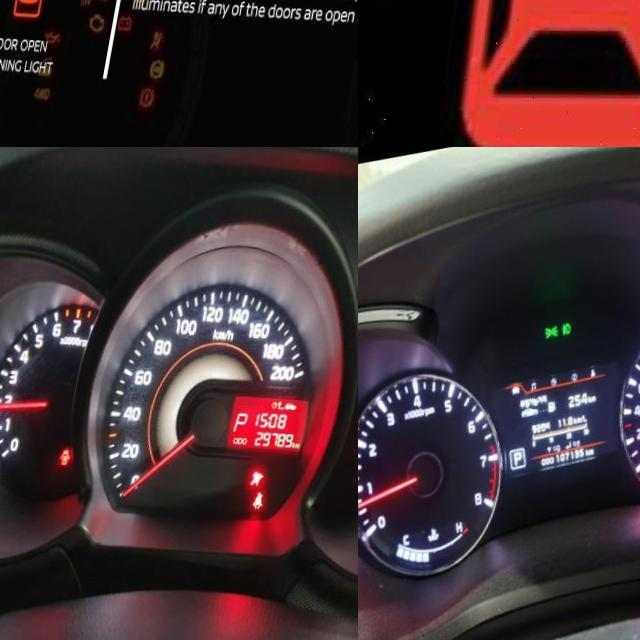Doors: (72, 446, 84, 463)
FrontFogLight: (566, 317, 580, 332)
SideLamp: (548, 318, 567, 336)
